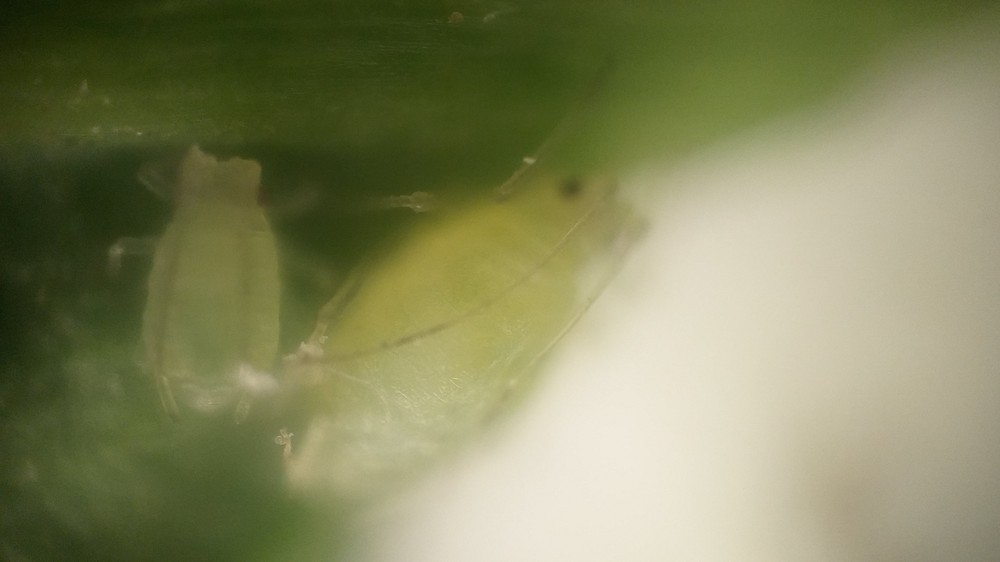Pulgon: (285, 90, 664, 522), (92, 130, 332, 427)
